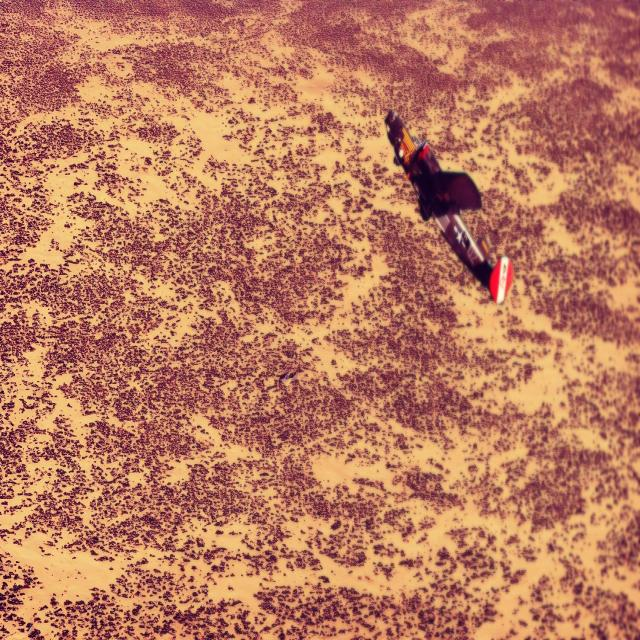airplane: (384, 107, 514, 305)
